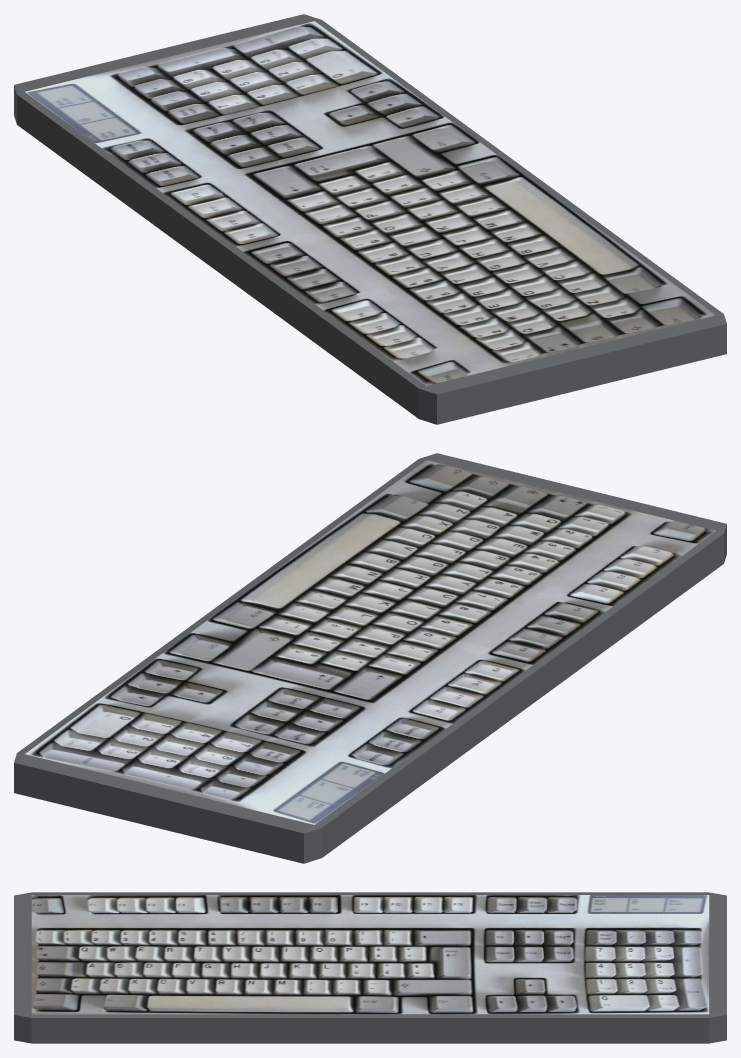
File: Keyboard.obj
The picture shows the model from 3 angles, top to bottom: view 1: azimuth 30°, elevation 25°; view 2: azimuth 150°, elevation 25°; view 3: azimuth 270°, elevation 25°; orthographic projection. The views are drawn at different scales.
Parts seen in each view (by area): view 1: Cube_Cube.002; view 2: Cube_Cube.002; view 3: Cube_Cube.002.
Part boxes in pixels (box(x1,y1,x2,y2)): Cube_Cube.002: box(14, 14, 726, 424); Cube_Cube.002: box(14, 453, 726, 863); Cube_Cube.002: box(14, 892, 726, 1043).
Bounding box in the file's own units: 1 × 0.1 × 2.4.
